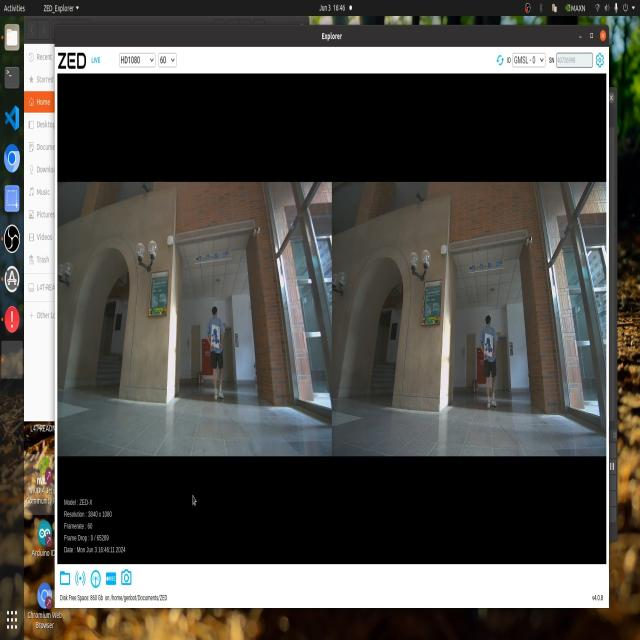blue: (208, 322, 223, 352), (481, 332, 492, 358)
